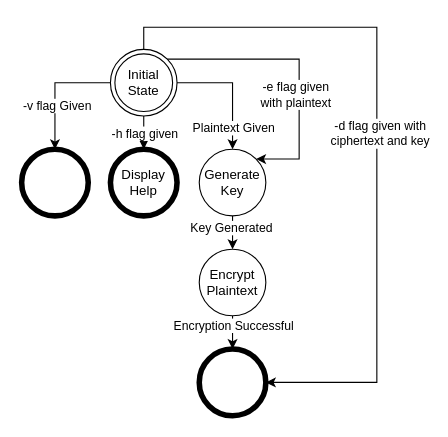
Some shapes in this 448 by 437 pixel diagram are drawn without their labels. Here are the shapes that lost their labels. From the top down, the box of each, then its label:
(18, 146, 90, 218): Display Version Info
(196, 346, 268, 418): Decrypt with Key
